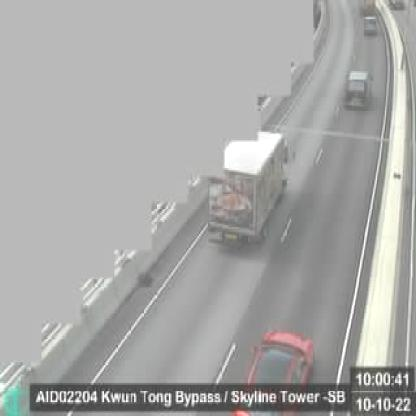Car: (223, 325, 315, 412), (344, 70, 372, 111), (364, 13, 378, 35)
Truck: (206, 125, 288, 250)
